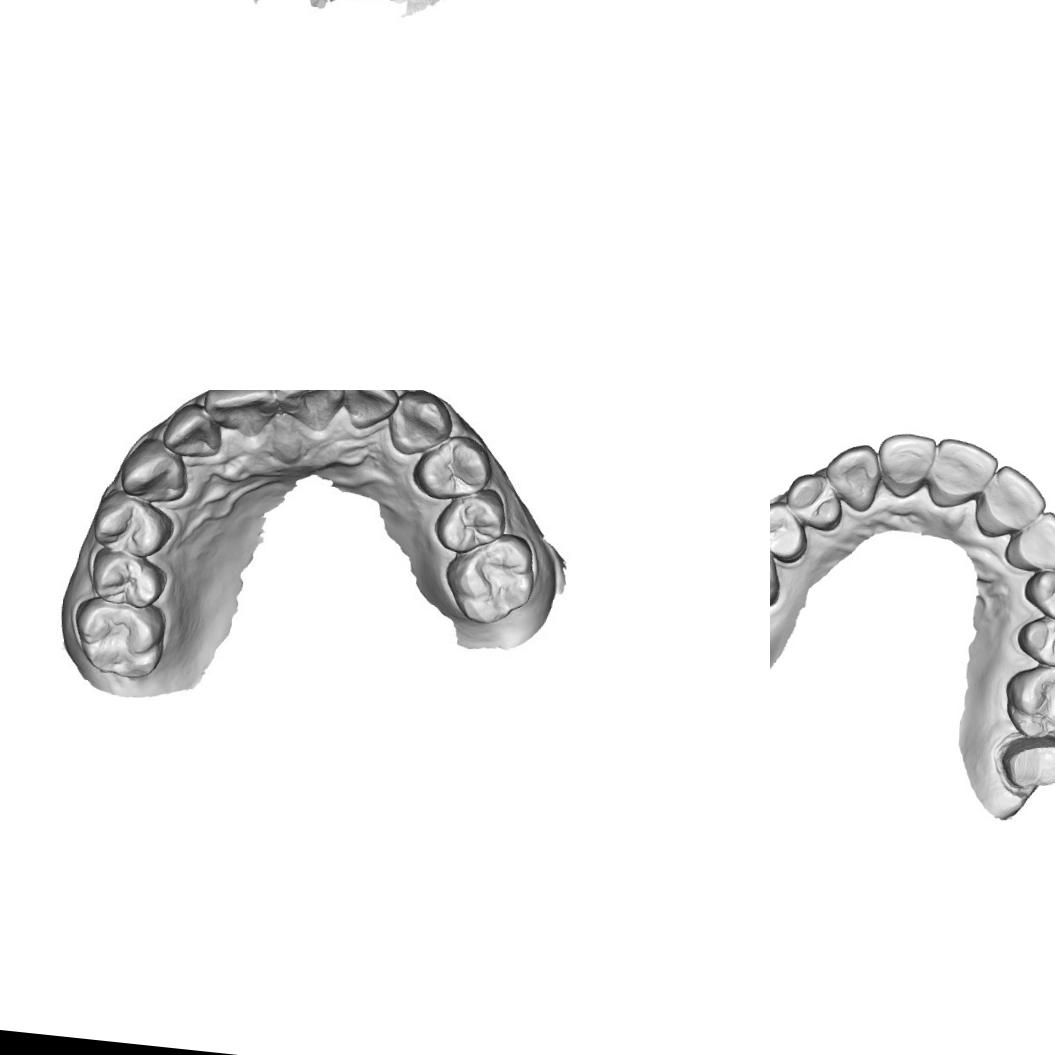canine: (819, 438, 886, 514), (386, 390, 455, 457), (120, 440, 186, 503)
crown: (992, 731, 1055, 799)
incisor: (970, 461, 1050, 544), (928, 434, 997, 514), (872, 426, 940, 502), (1000, 506, 1055, 578), (205, 390, 281, 439), (273, 390, 348, 439), (166, 403, 226, 461), (340, 390, 401, 435)
molar: (70, 590, 166, 686), (446, 539, 538, 623), (990, 658, 1055, 748)
premolar: (90, 488, 174, 558), (415, 433, 494, 506), (87, 546, 170, 612), (433, 488, 509, 556), (781, 470, 846, 535), (770, 497, 812, 565), (1012, 611, 1055, 671), (1020, 565, 1055, 625)
